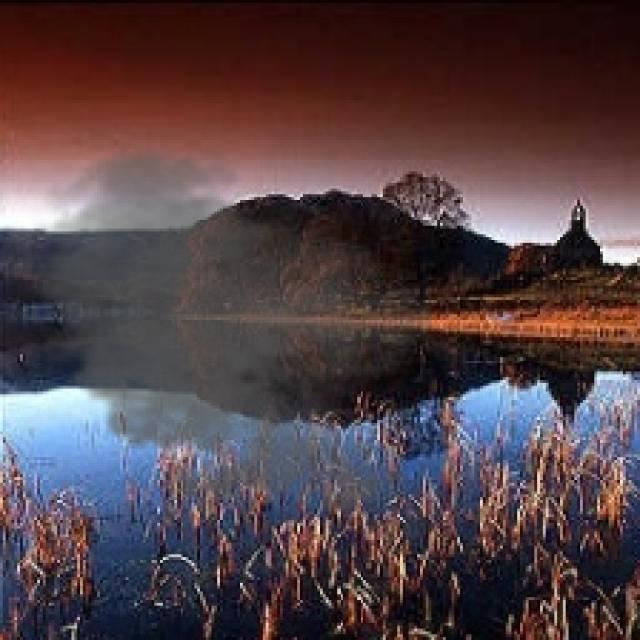smoke: (9, 143, 432, 526)
